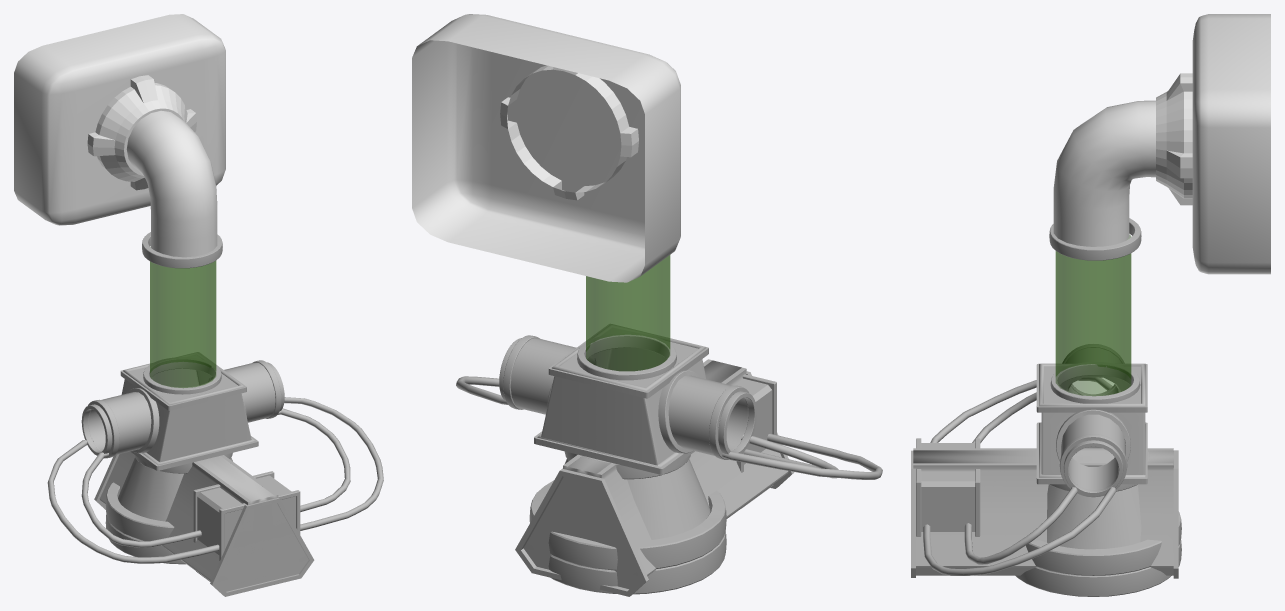
Rendered from PickUpV1.fbx.
3 renders of one model, left to right at view 1: azimuth 30°, elevation 25°; view 2: azimuth 150°, elevation 25°; view 3: azimuth 270°, elevation 25°, orthographic. The views are drawn at different scales.
Visible parts, largest first — view 1: PickUp_Base, Cube.003, PickUp_Glass.001, PickUp_Glass; view 2: Cube.003, PickUp_Base, PickUp_Glass; view 3: PickUp_Base, Cube.003, PickUp_Glass.001, PickUp_Glass.
Part boxes in pixels (bbox=[...]): PickUp_Base: bbox=[47, 232, 383, 596]; Cube.003: bbox=[14, 14, 225, 225]; PickUp_Glass.001: bbox=[126, 110, 217, 257]; PickUp_Glass: bbox=[150, 260, 216, 387]; Cube.003: bbox=[412, 14, 680, 282]; PickUp_Base: bbox=[456, 324, 882, 596]; PickUp_Glass: bbox=[586, 255, 670, 370]; PickUp_Base: bbox=[911, 218, 1181, 596]; Cube.003: bbox=[1156, 14, 1270, 274]; PickUp_Glass.001: bbox=[1053, 100, 1155, 246]; PickUp_Glass: bbox=[1055, 235, 1131, 395].
Size of the model in its own units: 7.54 by 10.3 by 6.63.
